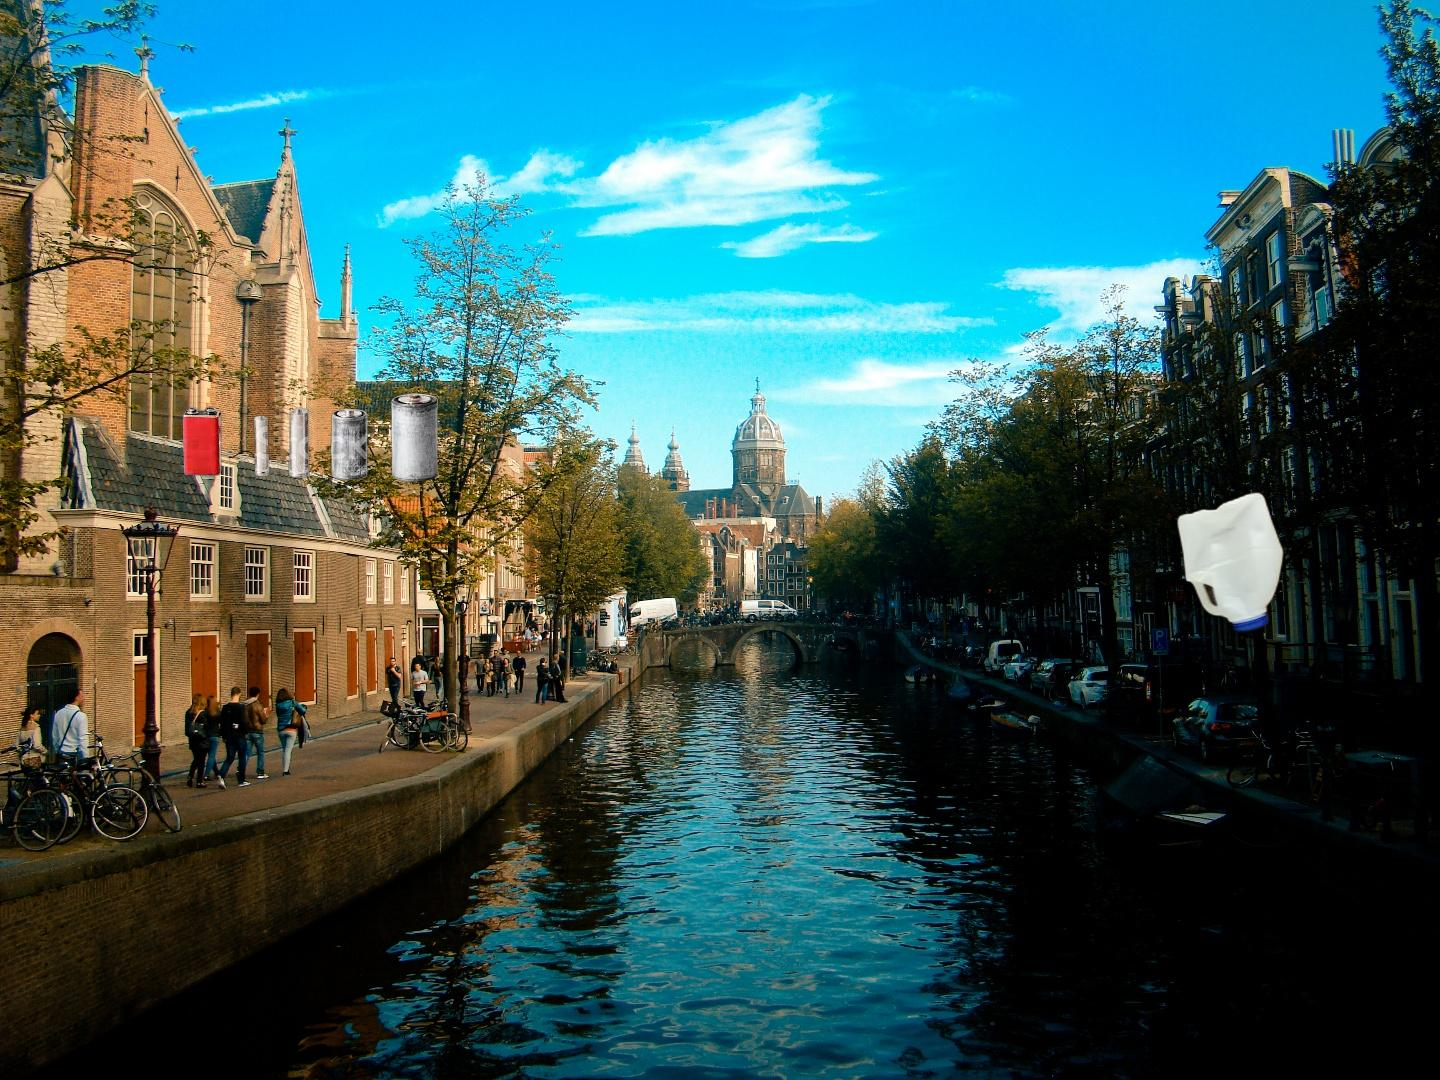battery: (180, 388, 440, 486)
plastic-bottles: (1172, 486, 1288, 638)
